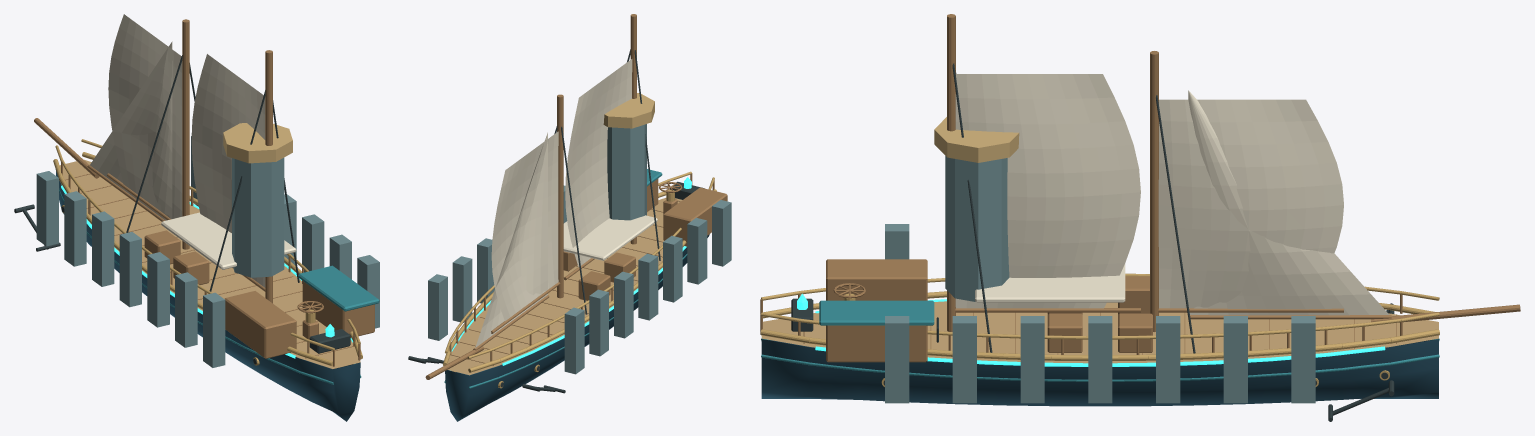
File: premium_imperial_yacht.glb
3 views of the same model, side by side, from view 1: azimuth 30°, elevation 25°; view 2: azimuth 150°, elevation 25°; view 3: azimuth 270°, elevation 25° (orthographic). The views are drawn at different scales.
Parts seen in each view (by area): view 1: premium_imperial_yacht; view 2: premium_imperial_yacht; view 3: premium_imperial_yacht.
Boxes of the visible parts, left/top/right/bottom form: premium_imperial_yacht: left=14, top=14, right=379, bottom=421; premium_imperial_yacht: left=408, top=14, right=731, bottom=421; premium_imperial_yacht: left=760, top=14, right=1520, bottom=421.
Bounding box in the file's own units: 4.7 × 8.43 × 15.15.
